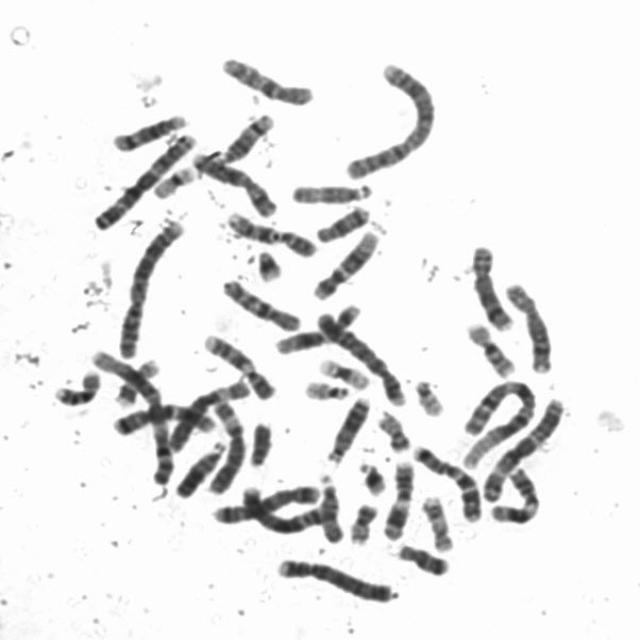A1: (84, 345, 176, 489), (455, 372, 539, 472)
A2: (338, 57, 439, 182), (112, 214, 187, 360)
A3: (88, 126, 200, 232), (476, 391, 568, 504)
B4: (312, 306, 411, 408), (271, 552, 400, 604)
B5: (208, 479, 324, 526), (237, 481, 332, 536)
C10: (216, 50, 318, 108), (216, 274, 303, 334)
C11: (485, 463, 542, 525), (377, 455, 417, 542)
C12: (307, 225, 382, 302), (270, 299, 364, 356)
C6: (163, 374, 252, 455), (200, 394, 248, 496)
C7: (406, 438, 484, 524), (108, 400, 222, 437)
C8: (500, 278, 555, 374), (466, 239, 516, 333)
C9: (199, 327, 278, 402), (222, 206, 319, 259)
D13: (321, 391, 374, 466), (172, 436, 231, 501)
D14: (106, 108, 190, 153), (216, 108, 277, 166)
D15: (286, 176, 376, 206), (314, 469, 346, 544)
E16: (460, 317, 518, 378), (49, 364, 103, 408)
E17: (110, 353, 162, 409), (418, 490, 456, 554)
E18: (312, 200, 373, 244), (391, 538, 452, 578)
F19: (313, 353, 373, 391), (148, 161, 201, 200)
F20: (373, 405, 414, 454), (344, 497, 381, 547)
G21: (354, 456, 390, 497), (251, 244, 286, 283)
G22: (409, 374, 448, 418), (299, 375, 353, 402)
X: (187, 146, 280, 219)
Y: (243, 416, 276, 468)
